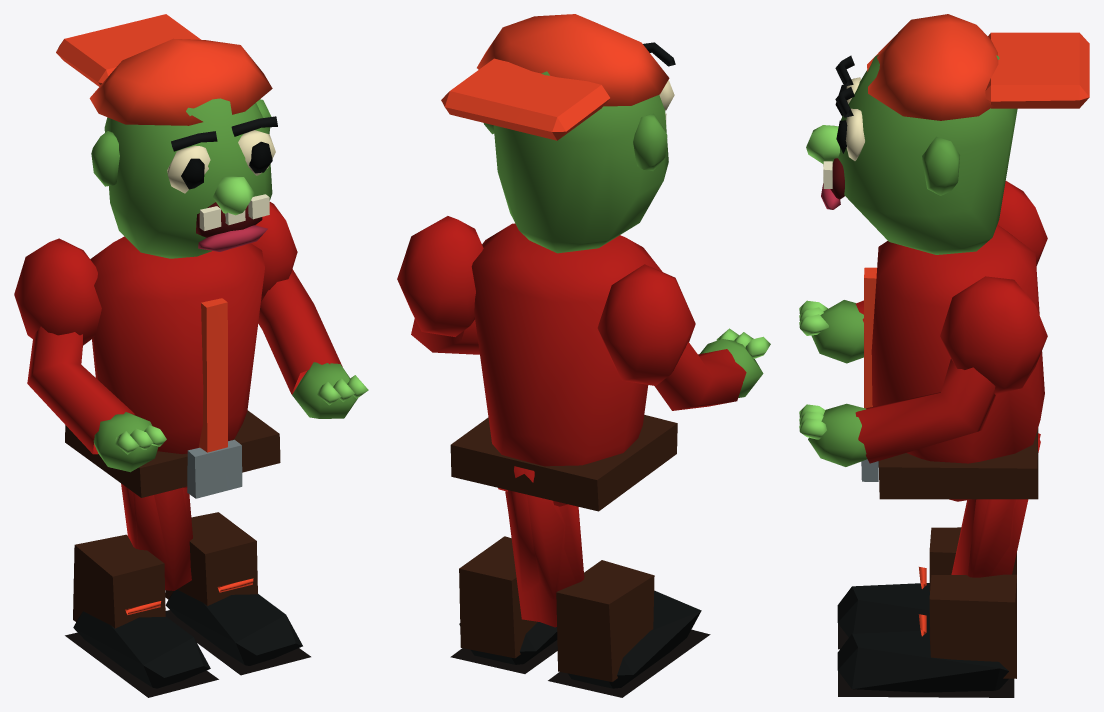
The model's file is fast-lod.glb.
3 renders of one model, left to right at view 1: azimuth 30°, elevation 25°; view 2: azimuth 150°, elevation 25°; view 3: azimuth 270°, elevation 25°, orthographic. The views are drawn at different scales.
Visible parts, largest first — view 1: Head, Body, Arms, LegR, LegL; view 2: Body, Head, Arms, LegL, LegR; view 3: Head, Body, Arms, LegR, LegL.
Boxes of the visible parts, x1,y1,x2,y2 form: Head: (56, 14, 277, 258); Body: (65, 236, 280, 498); Arms: (14, 202, 368, 472); LegR: (121, 486, 310, 675); LegL: (65, 483, 218, 697); Body: (450, 223, 677, 511); Head: (441, 14, 675, 253); Arms: (397, 216, 770, 410); LegL: (508, 467, 710, 697); LegR: (450, 466, 584, 673); Head: (806, 14, 1089, 254); Body: (861, 224, 1044, 501); Arms: (799, 181, 1047, 466); LegR: (837, 435, 1040, 697); LegL: (837, 433, 1040, 649).
Bounding box in the file's own units: 0.5769 × 1.19 × 0.492.
Materials: 1 (1 with a texture image).
